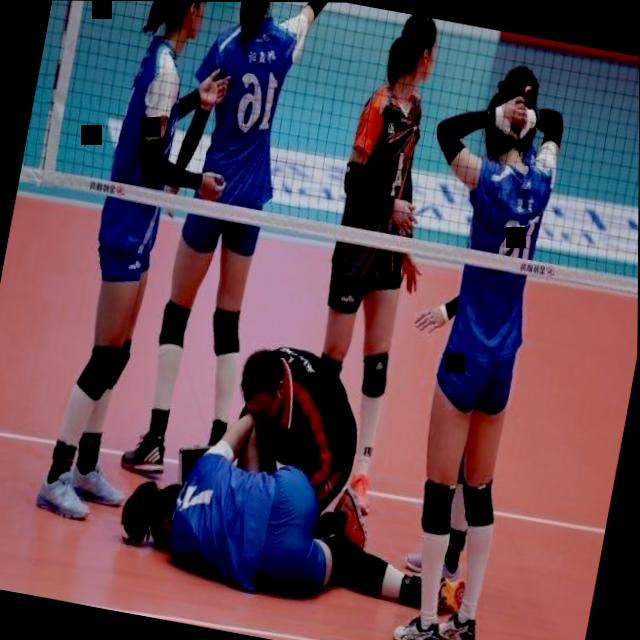Fall-Detected: (103, 403, 496, 632)
